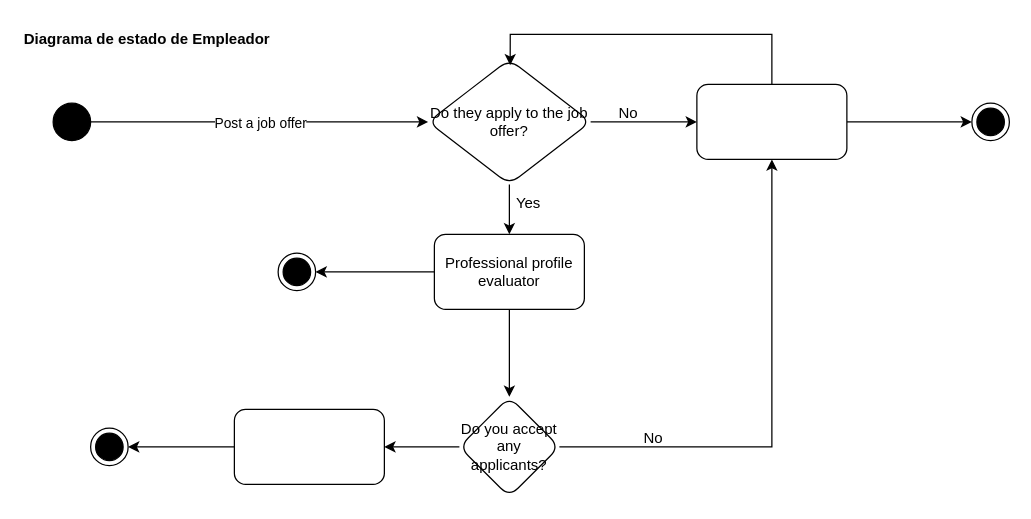
Image size: 1031x519. Some labels were removed from this diagram. Here are the shapes that lost their labels. From the top down, the centre of each, then its label:
At point (771, 121): "Waiting for applicants".
At point (308, 446): "The employer has hired the applicant".
